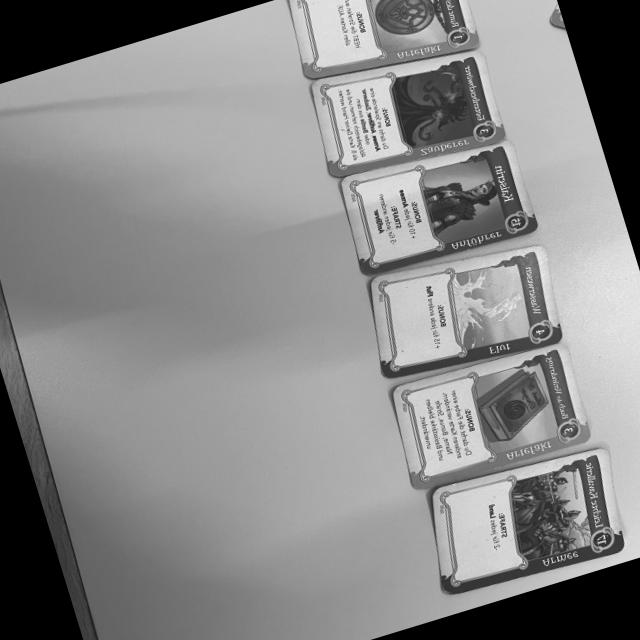Book Of Changes: (389, 342, 592, 492)
Dwarvish Infantry: (432, 446, 623, 596)
Elemental Enchantress: (311, 50, 508, 177)
Empress: (339, 140, 542, 277)
Rune Of Protection: (289, 0, 481, 80)
Water Elemental: (370, 244, 564, 379)
